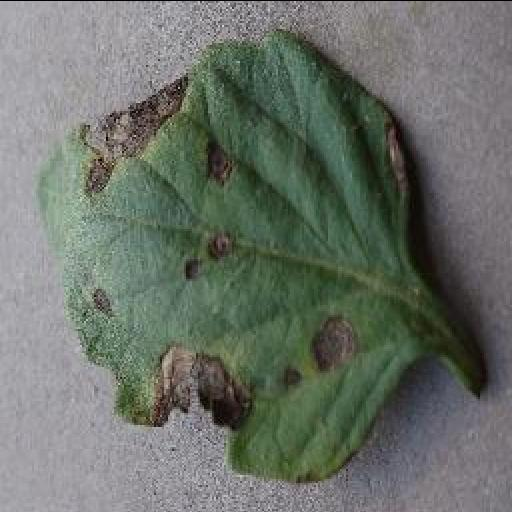disease_tomato: (33, 28, 427, 480)
